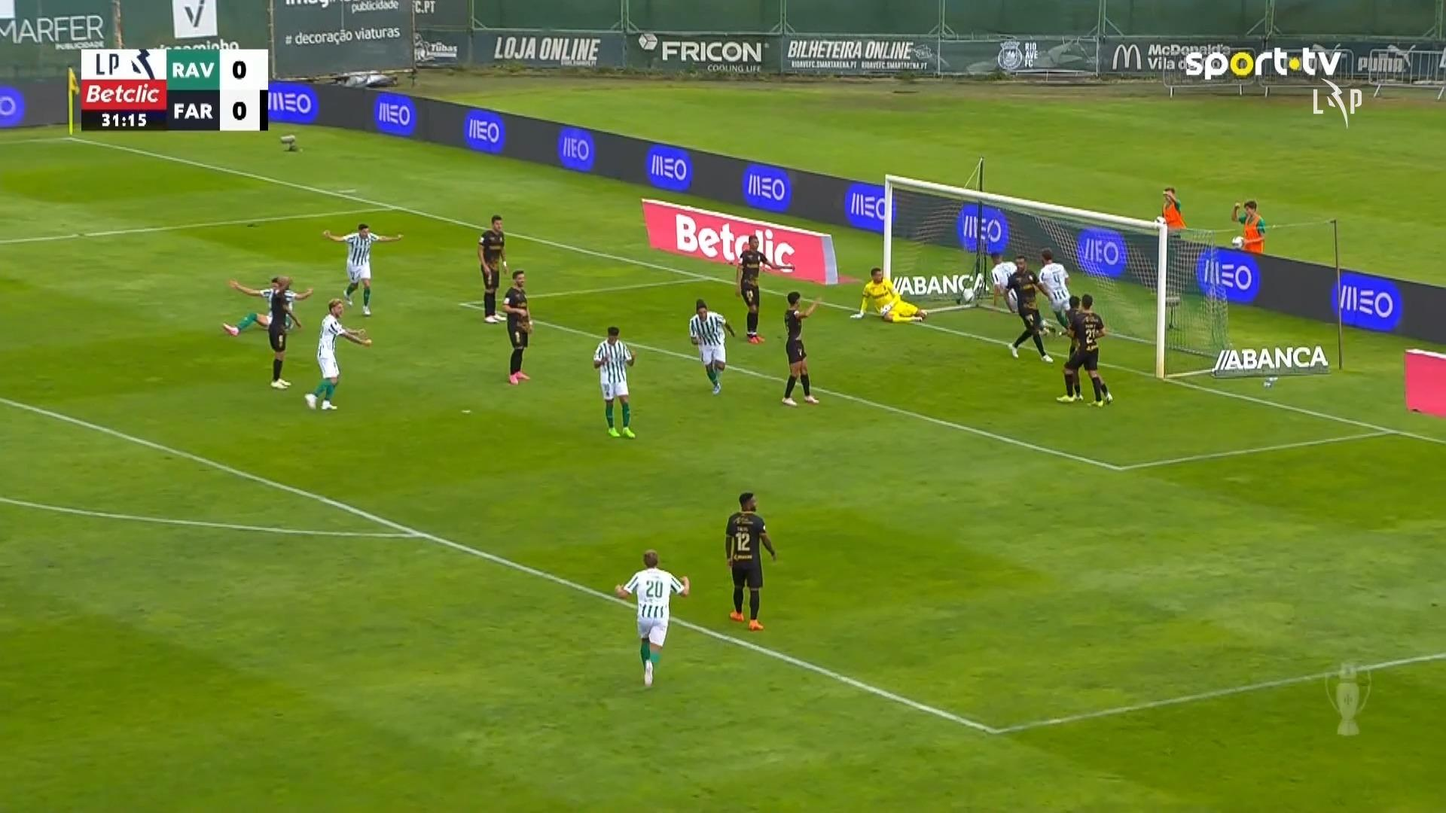goalkeeper: (850, 266, 927, 323)
player: (614, 549, 690, 687), (321, 221, 403, 316), (304, 297, 372, 410), (723, 491, 776, 630), (730, 233, 794, 344), (1056, 292, 1112, 406), (220, 276, 313, 339), (1005, 255, 1054, 362), (780, 290, 823, 406), (592, 325, 636, 438), (688, 298, 735, 395), (266, 277, 301, 390), (502, 269, 533, 384), (477, 214, 508, 323), (1037, 248, 1071, 336), (990, 256, 1020, 312)
